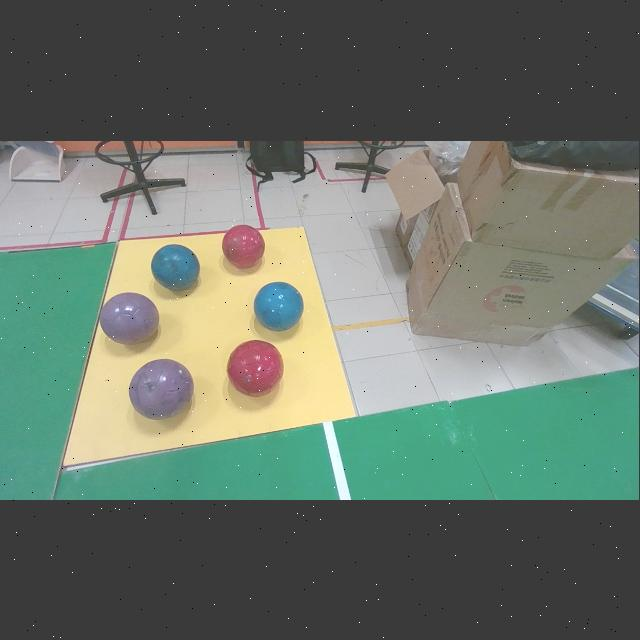B: (254, 281, 304, 330), (152, 244, 200, 289)
P: (128, 358, 194, 418), (100, 291, 159, 344)
R: (222, 224, 266, 268)
